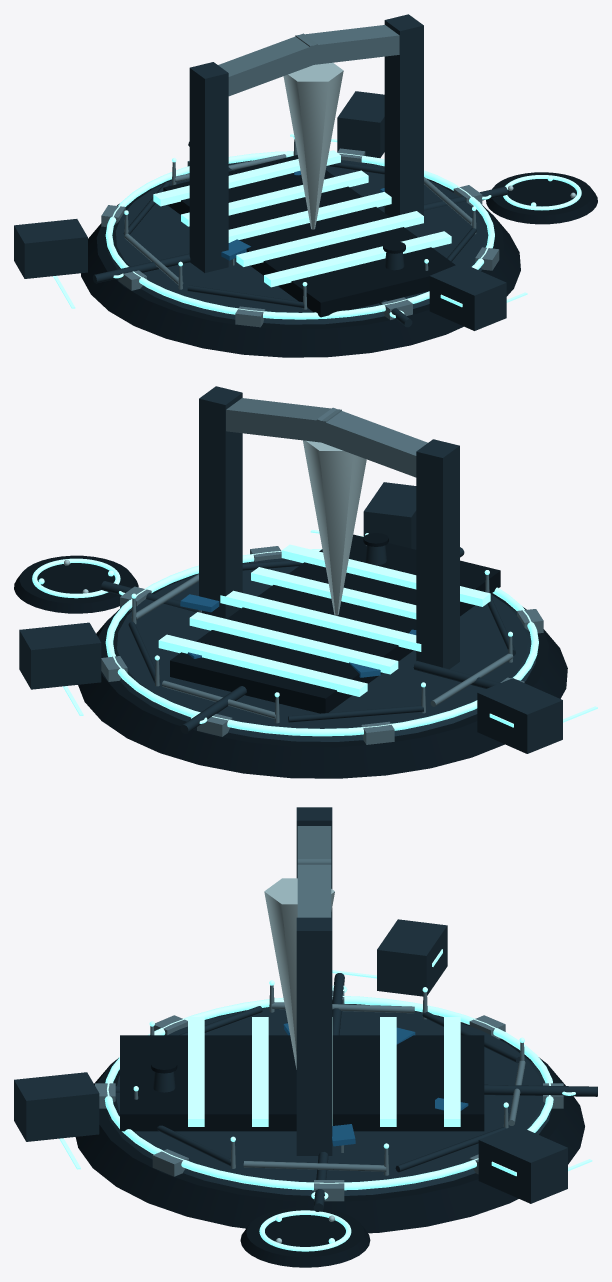
The model's file is shipyard-stage2.glb.
3 views of the same model, one above another, from view 1: azimuth 30°, elevation 25°; view 2: azimuth 150°, elevation 25°; view 3: azimuth 270°, elevation 25° (orthographic). The views are drawn at different scales.
Visible parts, largest first — view 1: gantry-pillar (×2), armored-foundation, construction-trench, upper-deck, dock-light (×5), gantry-crown (×2), hull-under-construction, perimeter-light, industrial-annex-0, industrial-annex-1, landing-pad, industrial-annex-2 (+5 smaller); view 2: upper-deck, gantry-pillar (×2), armored-foundation, construction-trench, dock-light (×5), gantry-crown (×2), hull-under-construction, industrial-annex-1, industrial-annex-2, perimeter-light, landing-pad, industrial-annex-0 (+10 smaller); view 3: construction-trench, upper-deck, armored-foundation, gantry-pillar (×2), dock-light (×4), perimeter-light, industrial-annex-2, landing-pad, industrial-annex-0, industrial-annex-1, hull-under-construction, gantry-crown (×2) (+6 smaller).
Boxes of the visible parts, bbox=[...] form: gantry-pillar (×2): bbox=[189, 14, 423, 272]; armored-foundation: bbox=[81, 160, 520, 357]; construction-trench: bbox=[163, 155, 455, 317]; upper-deck: bbox=[108, 160, 493, 324]; dock-light (×5): bbox=[153, 150, 451, 287]; gantry-crown (×2): bbox=[218, 25, 399, 96]; hull-under-construction: bbox=[283, 62, 343, 229]; perimeter-light: bbox=[105, 151, 494, 319]; industrial-annex-0: bbox=[429, 263, 506, 330]; industrial-annex-1: bbox=[14, 219, 87, 278]; landing-pad: bbox=[486, 172, 597, 224]; industrial-annex-2: bbox=[337, 91, 384, 157]; upper-deck: bbox=[107, 558, 536, 741]; gantry-pillar (×2): bbox=[199, 386, 459, 669]; armored-foundation: bbox=[78, 562, 567, 778]; construction-trench: bbox=[170, 534, 500, 713]; dock-light (×5): bbox=[158, 544, 490, 696]; gantry-crown (×2): bbox=[226, 398, 427, 477]; hull-under-construction: bbox=[303, 440, 366, 615]; industrial-annex-1: bbox=[477, 678, 562, 753]; industrial-annex-2: bbox=[19, 622, 101, 689]; perimeter-light: bbox=[105, 549, 538, 736]; landing-pad: bbox=[14, 555, 138, 613]; industrial-annex-0: bbox=[363, 482, 416, 549]; construction-trench: bbox=[120, 1035, 484, 1131]; upper-deck: bbox=[107, 1004, 551, 1195]; armored-foundation: bbox=[75, 1004, 584, 1233]; gantry-pillar (×2): bbox=[296, 807, 332, 1155]; dock-light (×4): bbox=[188, 1017, 460, 1126]; perimeter-light: bbox=[104, 996, 553, 1190]; industrial-annex-2: bbox=[478, 1125, 567, 1203]; landing-pad: bbox=[240, 1207, 370, 1267]; industrial-annex-0: bbox=[14, 1072, 99, 1141]; industrial-annex-1: bbox=[377, 919, 447, 996]; hull-under-construction: bbox=[264, 878, 334, 1069]; gantry-crown (×2): bbox=[297, 826, 331, 917].
Bounding box in the file's own units: 13.28 × 5.54 × 11.03.
